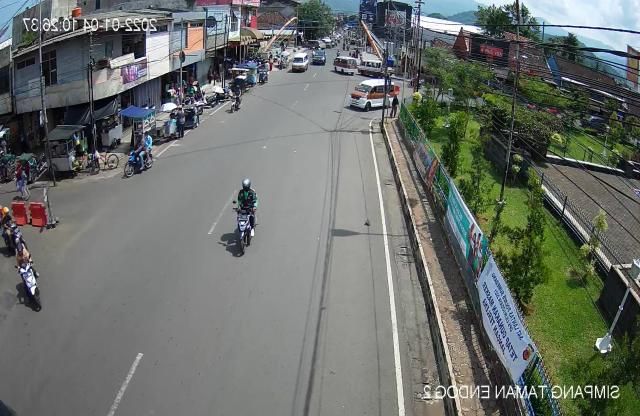Motor: (226, 178, 266, 262), (10, 236, 45, 314), (115, 130, 156, 183), (0, 200, 28, 260)
